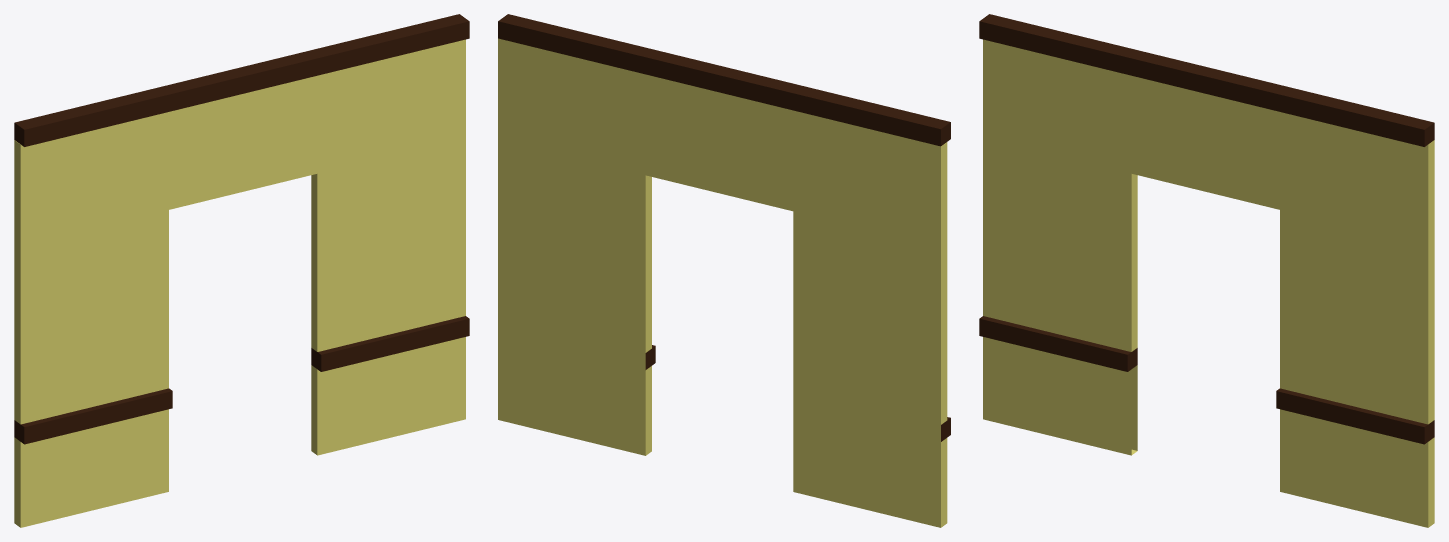
The model's file is modeladoPuertayPared.fbx.
The picture shows the model from 3 angles, left to right: view 1: azimuth 30°, elevation 25°; view 2: azimuth 150°, elevation 25°; view 3: azimuth 330°, elevation 25°; orthographic projection.
Visible parts, largest first — view 1: Pared_3; view 2: Pared_3; view 3: Pared_3.
Part boxes in pixels (x1=…): Pared_3: x1=14, y1=14, x2=469, y2=527; Pared_3: x1=498, y1=14, x2=950, y2=527; Pared_3: x1=979, y1=14, x2=1434, y2=527.
Bounding box in the file's own units: 1970 × 1695 × 76.53.
